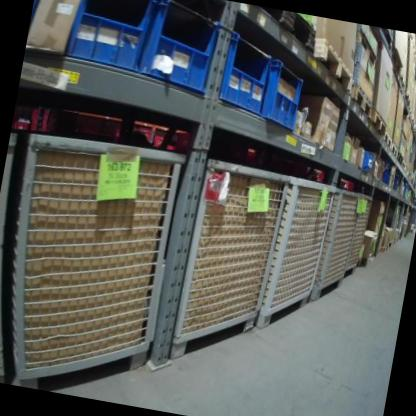pallet: (305, 36, 361, 99), (348, 80, 378, 121), (366, 108, 391, 139), (381, 128, 395, 153), (379, 242, 389, 254)
small_load_carrier: (139, 0, 225, 98), (62, 0, 156, 78), (217, 27, 276, 115), (259, 54, 308, 133)
stillage: (0, 114, 189, 407), (164, 151, 294, 374), (252, 163, 337, 340), (0, 129, 52, 382), (308, 175, 365, 308), (340, 192, 373, 287), (382, 200, 404, 249)
